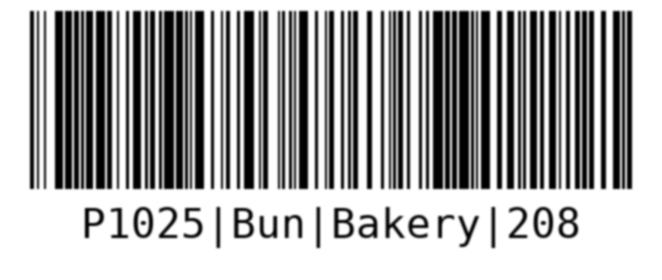milk: (25, 3, 640, 252)
